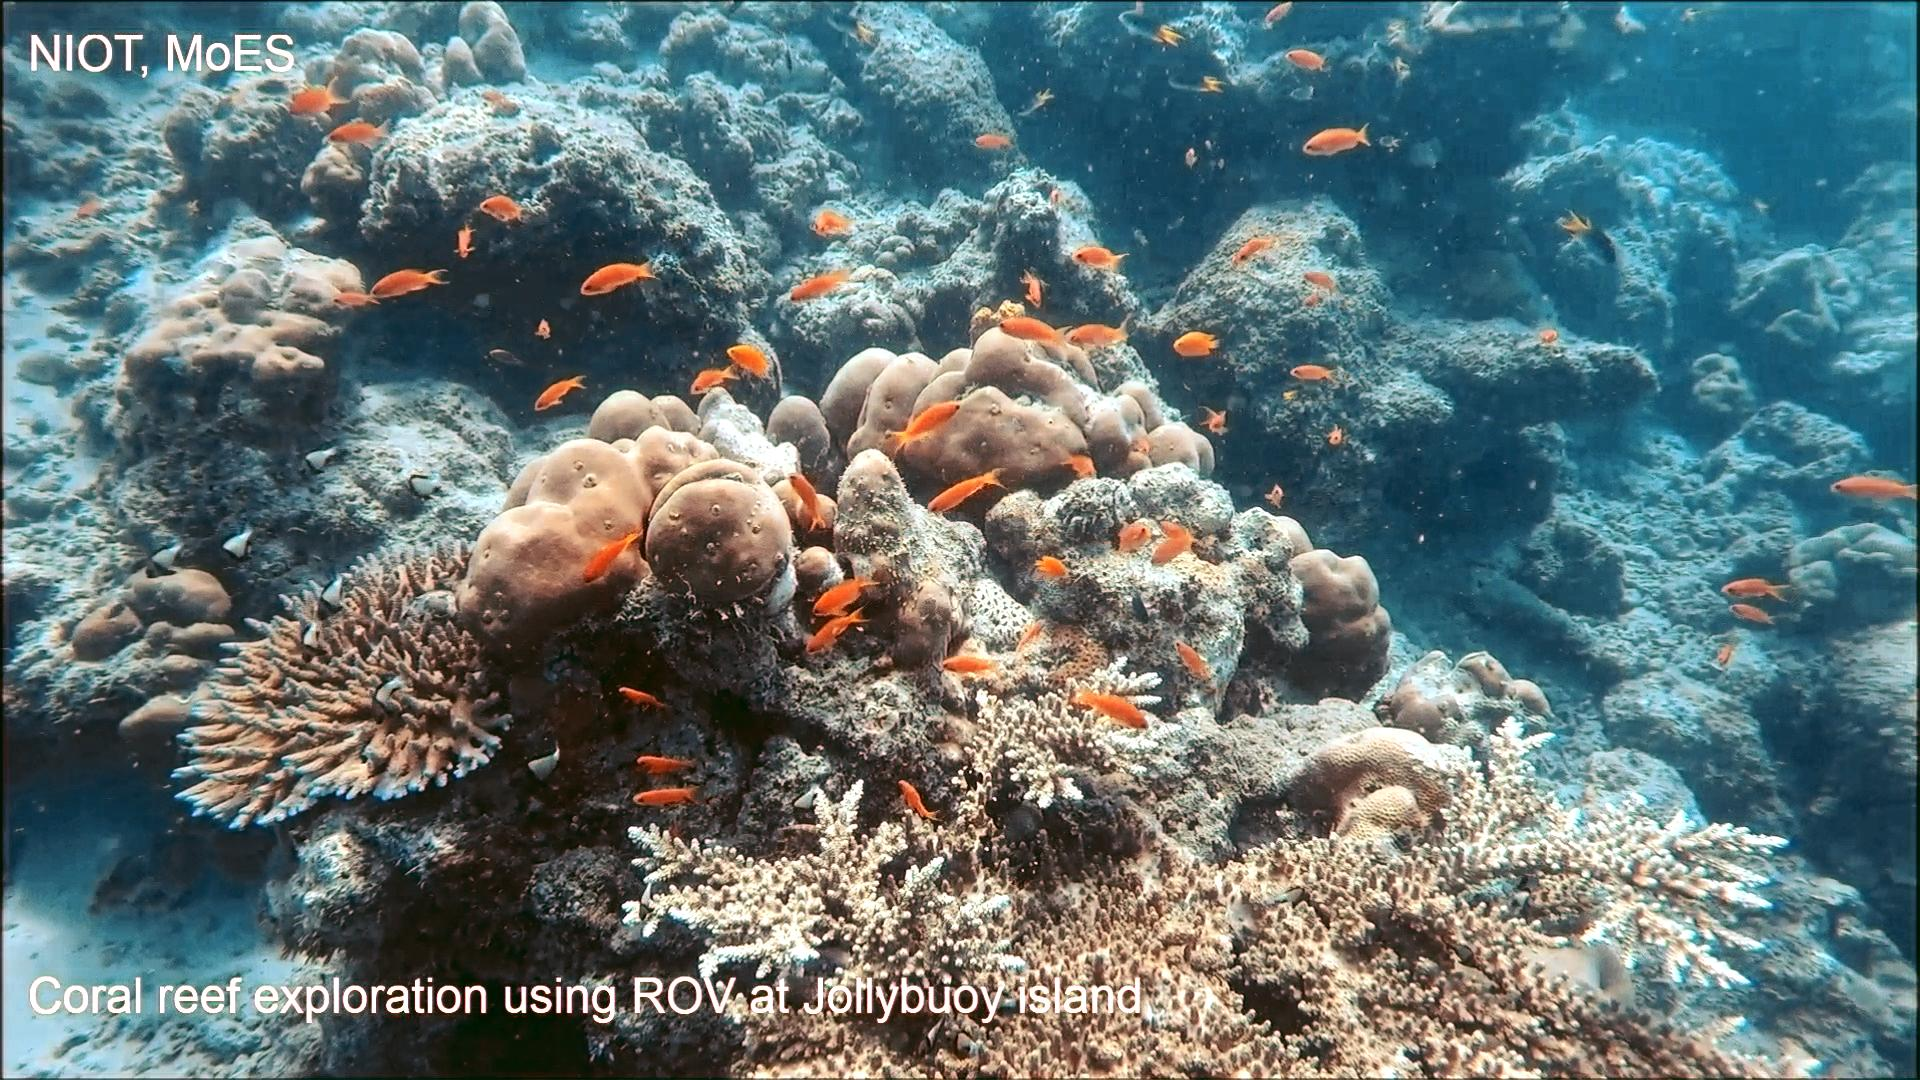Porites-Porites pukoensis: (448, 380, 796, 649), (798, 316, 1222, 500)
